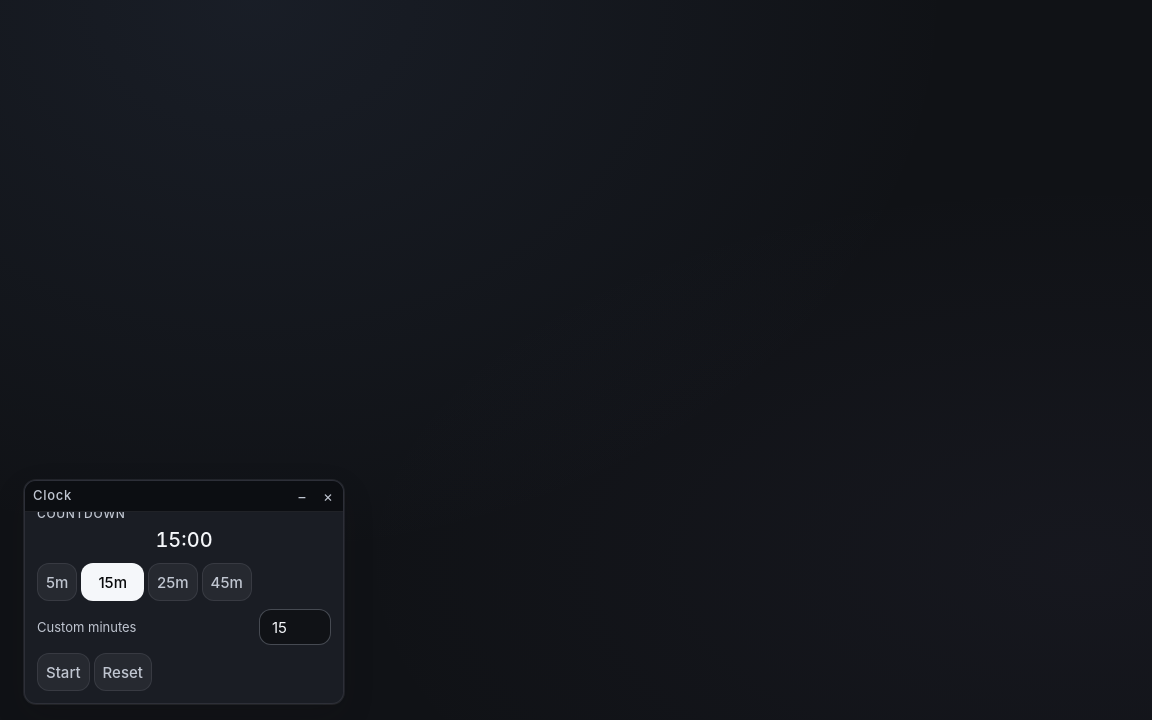
Test case: ClockPanel — countdown presets and bounds › clamps a custom-minutes entry below 1 up to 1
(page scrolled)
Replace the text in the number field labelled "Custom minutes" with "0" at (295, 627), box [259,609,331,645]
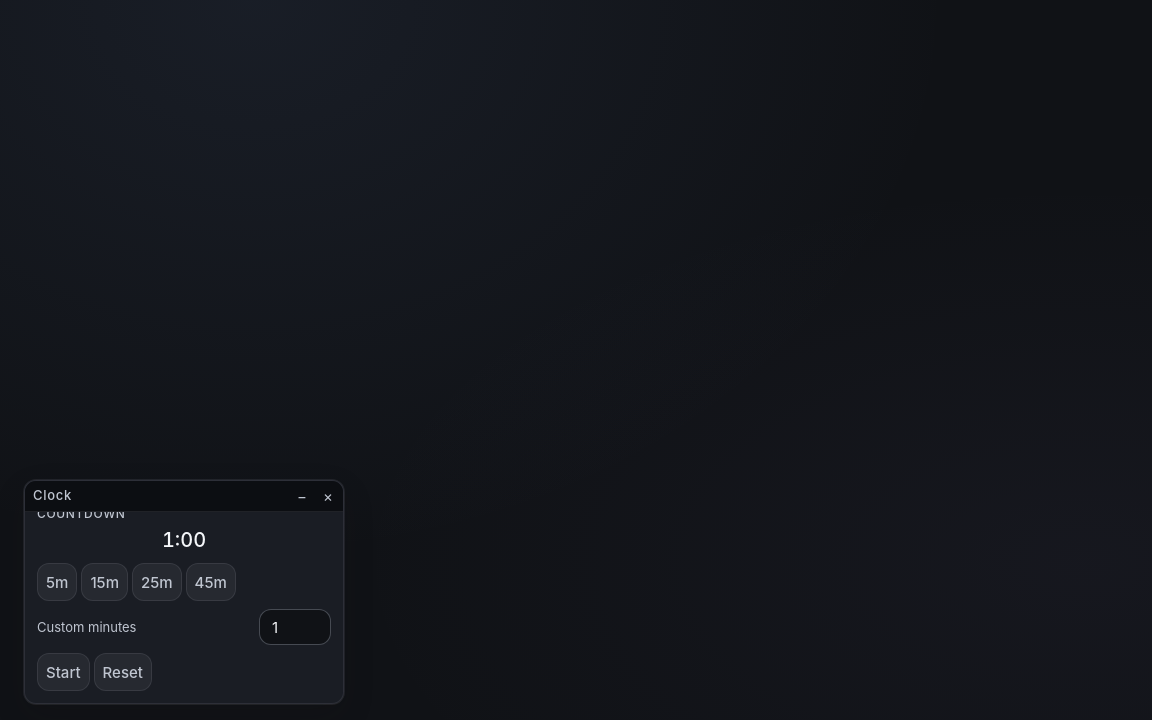
Check: the number field labelled "Custom minutes" holds "1", box [259,609,331,645]
Check: the text "1:00" is shown, box [162,528,206,552]
